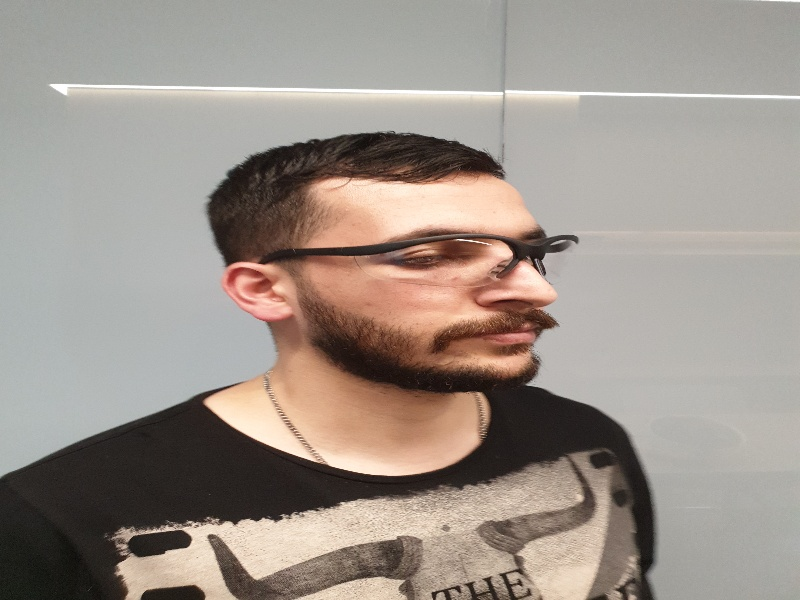Gozluk: (258, 235, 579, 284)
